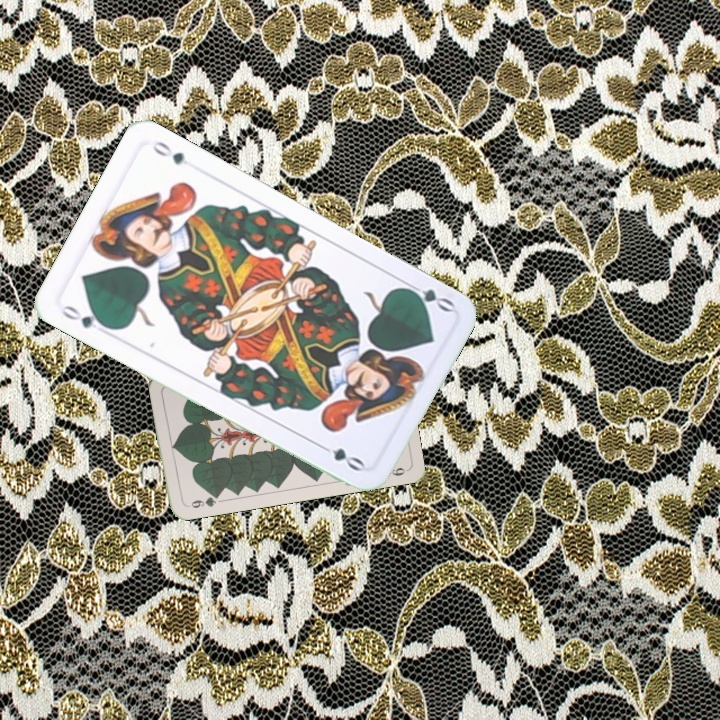G9: (182, 490, 222, 511)
GO: (398, 277, 457, 315), (57, 300, 113, 332)
